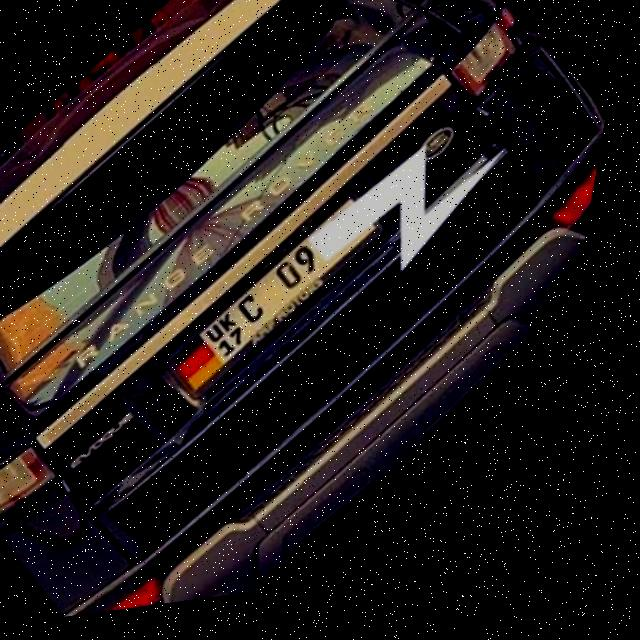license_plate: (203, 207, 388, 376)
